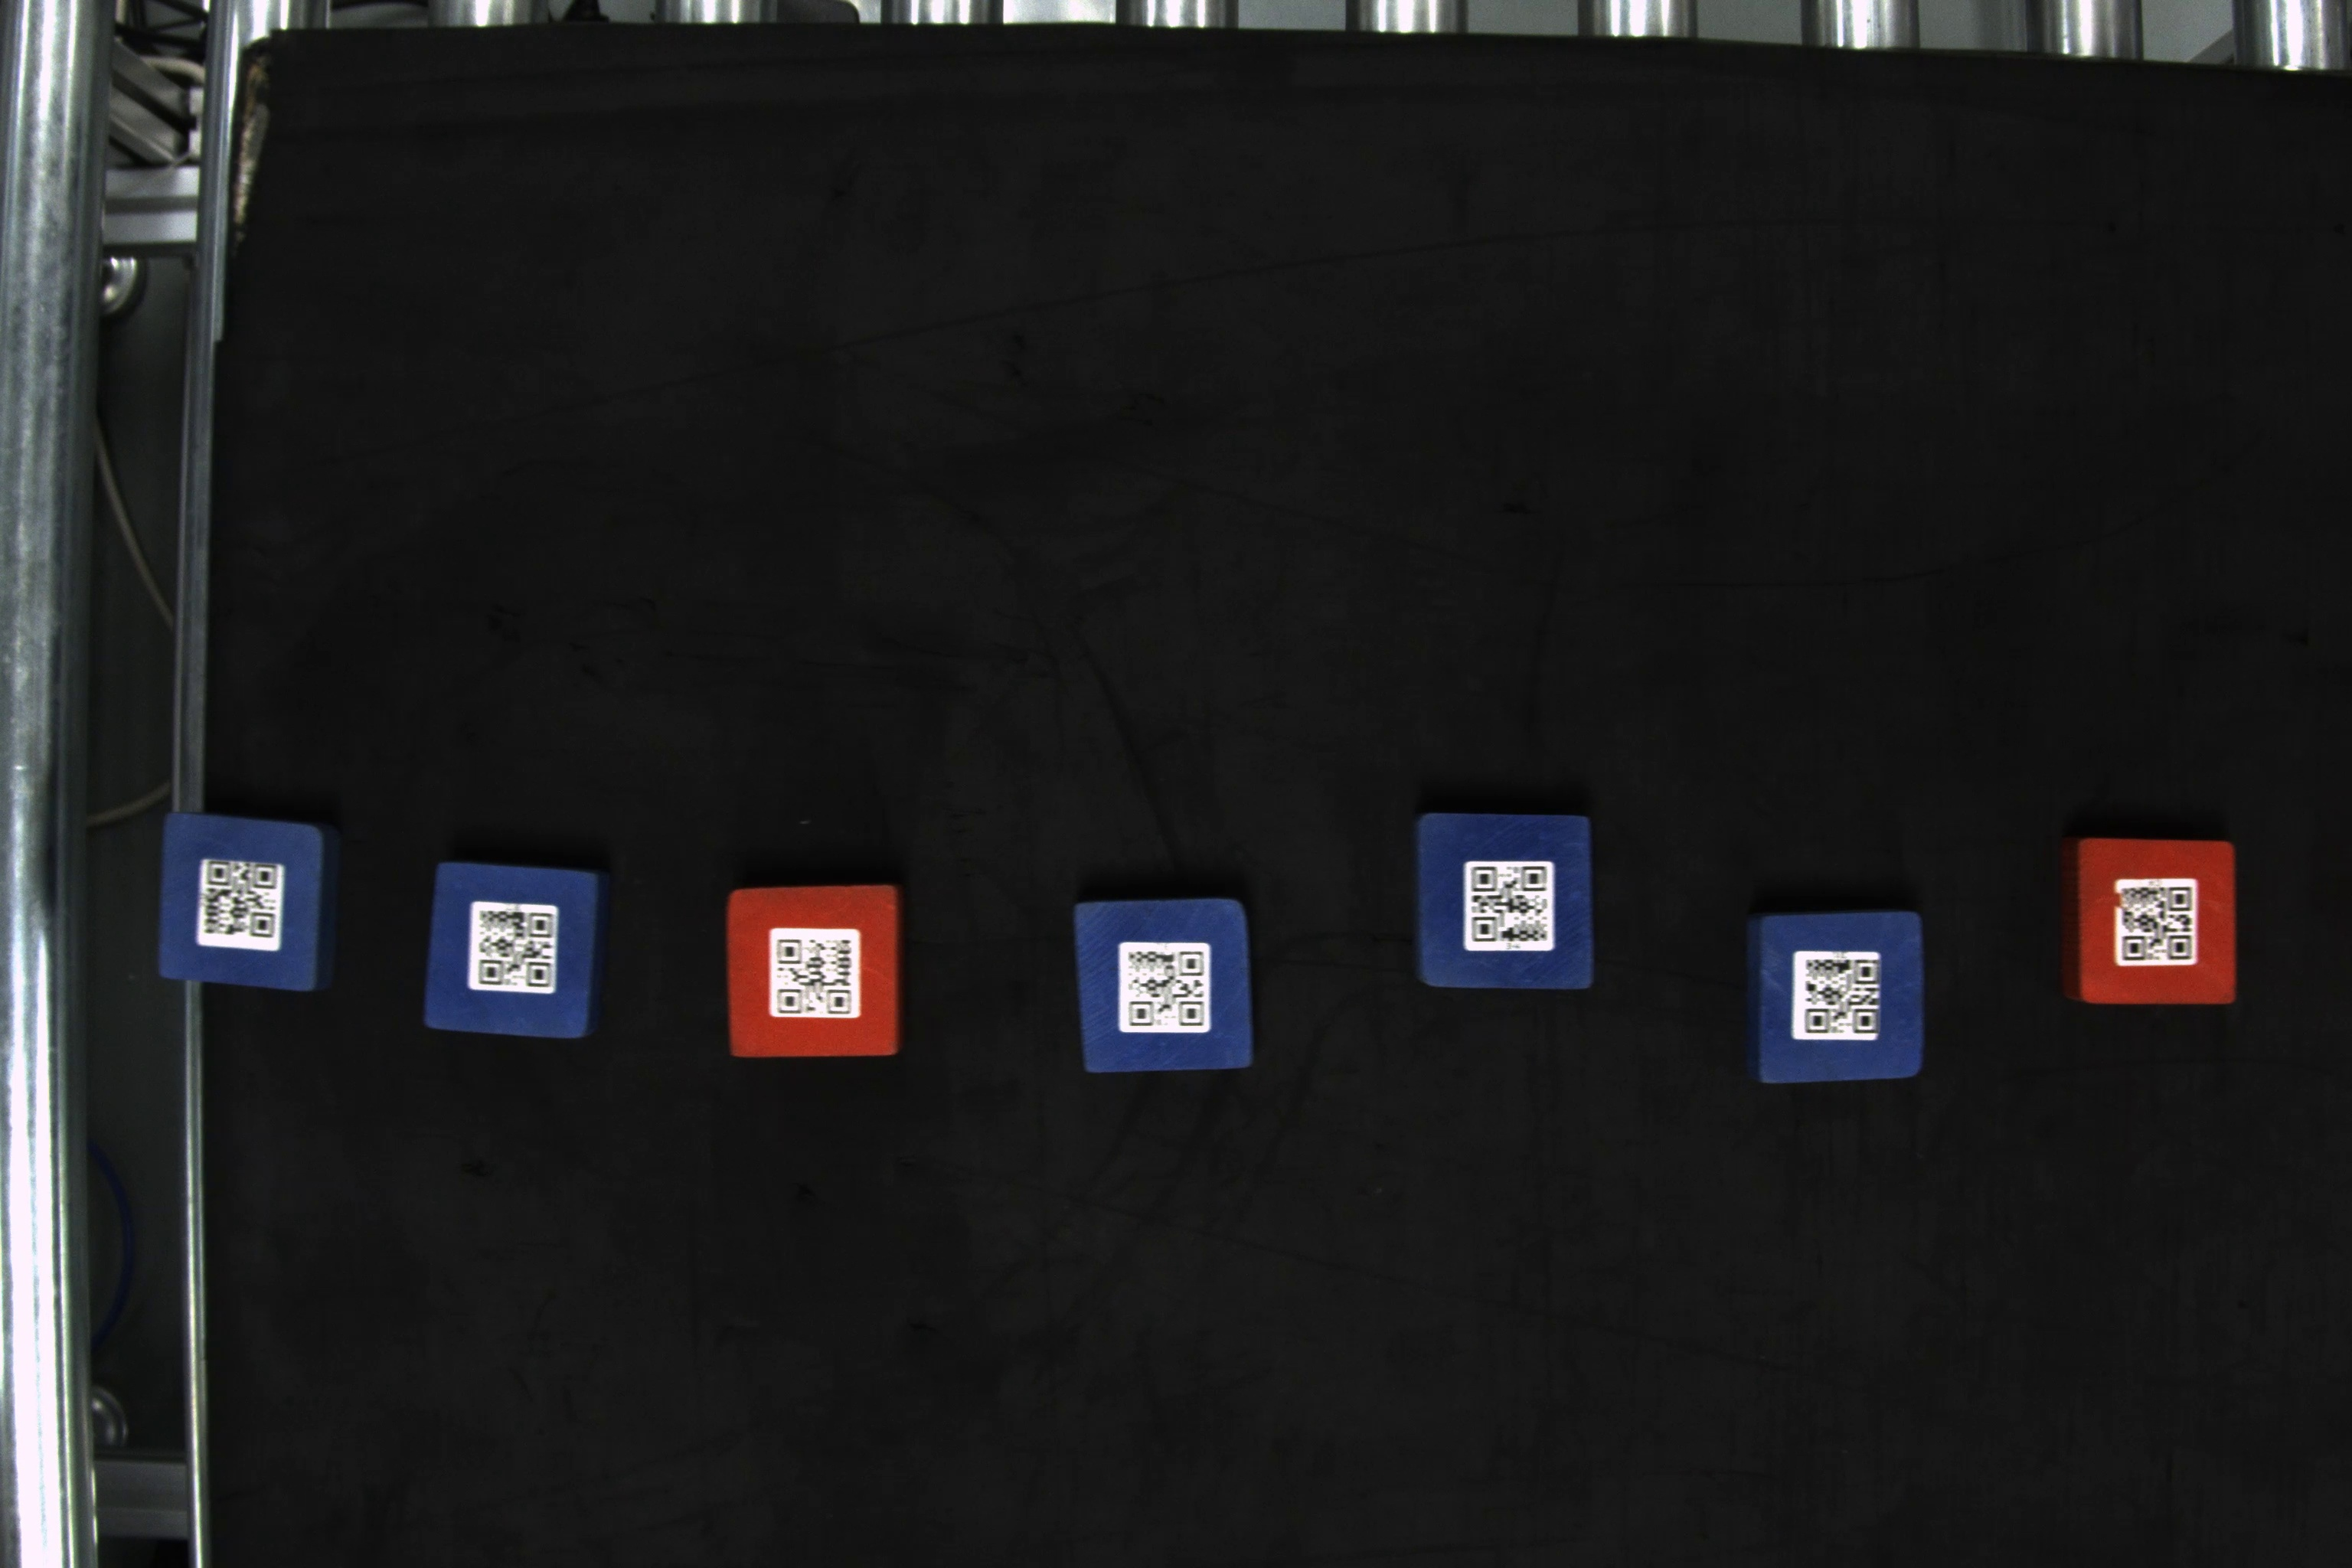wood: (154, 805, 343, 996), (1410, 808, 1601, 996), (429, 852, 611, 1046), (723, 885, 910, 1066), (1745, 906, 1928, 1087), (2058, 831, 2242, 1011), (1071, 899, 1256, 1074)
